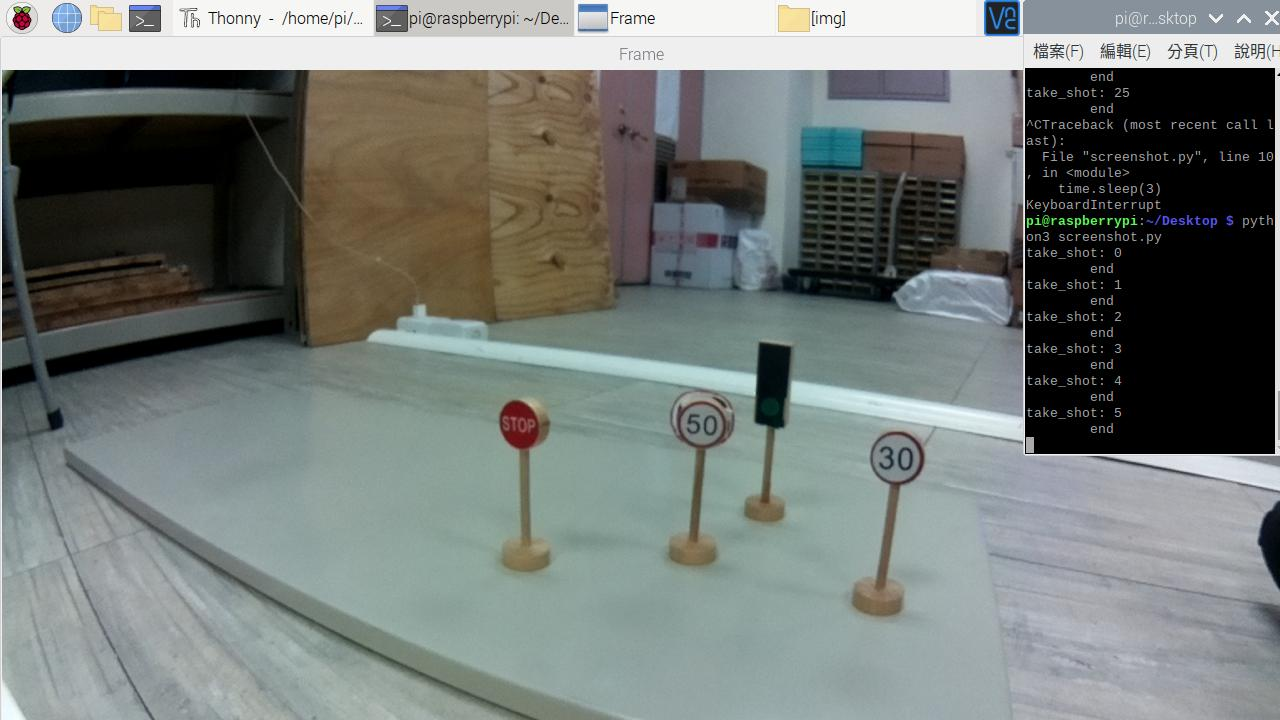Green: (762, 333, 784, 429)
Speed30: (874, 427, 920, 487)
Speed50: (679, 388, 727, 453)
Stop: (498, 396, 546, 446)
